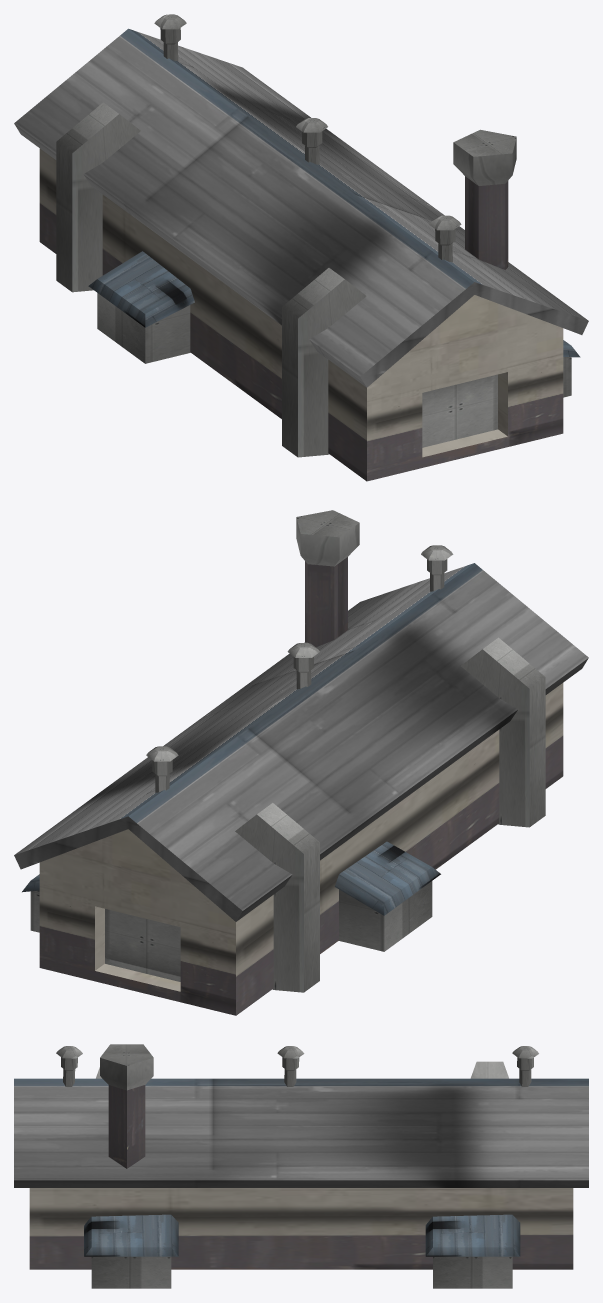
Rendered from large_house.obj.
3 renders of one model, top to bottom at view 1: azimuth 30°, elevation 25°; view 2: azimuth 150°, elevation 25°; view 3: azimuth 270°, elevation 25°, orthographic. The views are drawn at different scales.
Visible parts, largest first — view 1: big_industry1; view 2: big_industry1; view 3: big_industry1.
Part boxes in pixels (x1=…): big_industry1: x1=14, y1=14, x2=588, y2=481; big_industry1: x1=14, y1=510, x2=588, y2=1015; big_industry1: x1=14, y1=1044, x2=588, y2=1288.
Bounding box in the file's own units: 1448 × 1181 × 2931.
